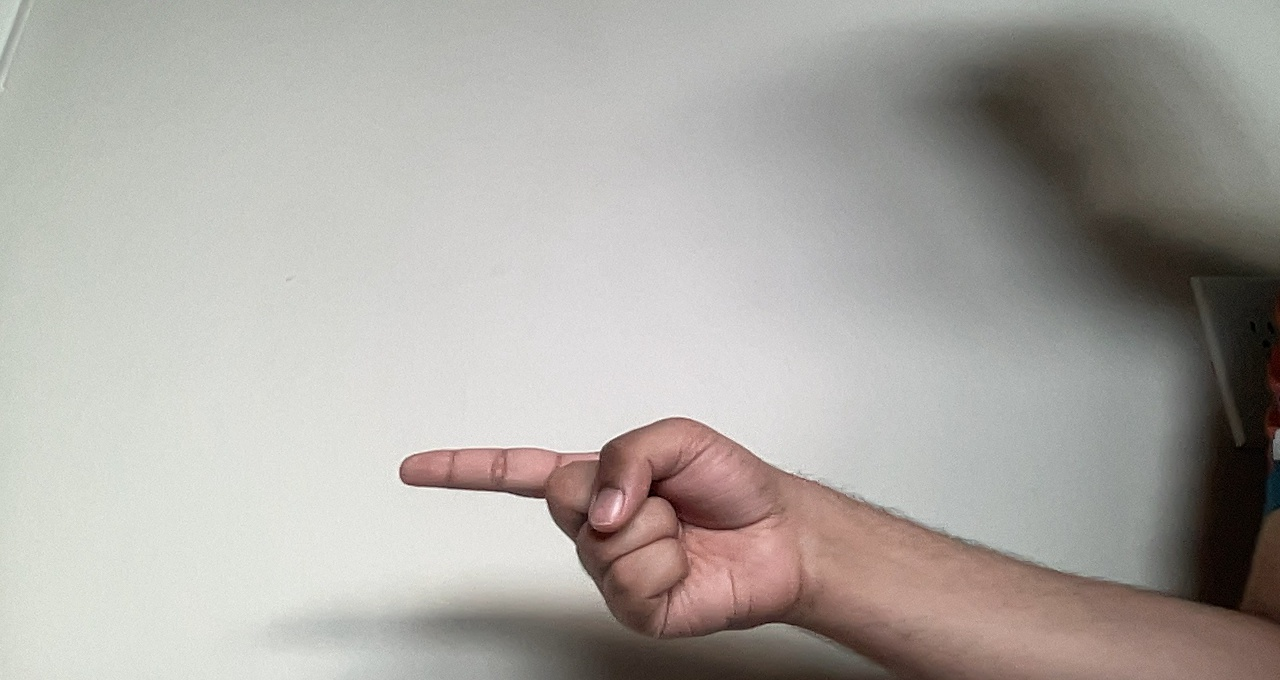fingerright: (387, 409, 814, 649)
